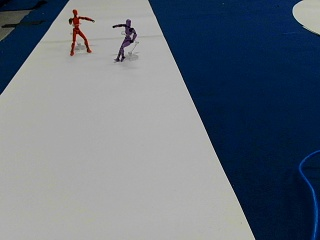pedestrian: (68, 9, 95, 54), (112, 18, 136, 60)
